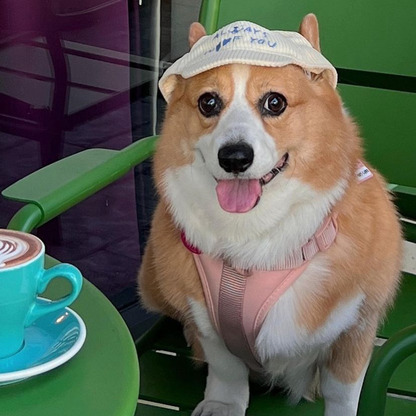Corgi: (155, 29, 380, 395)
